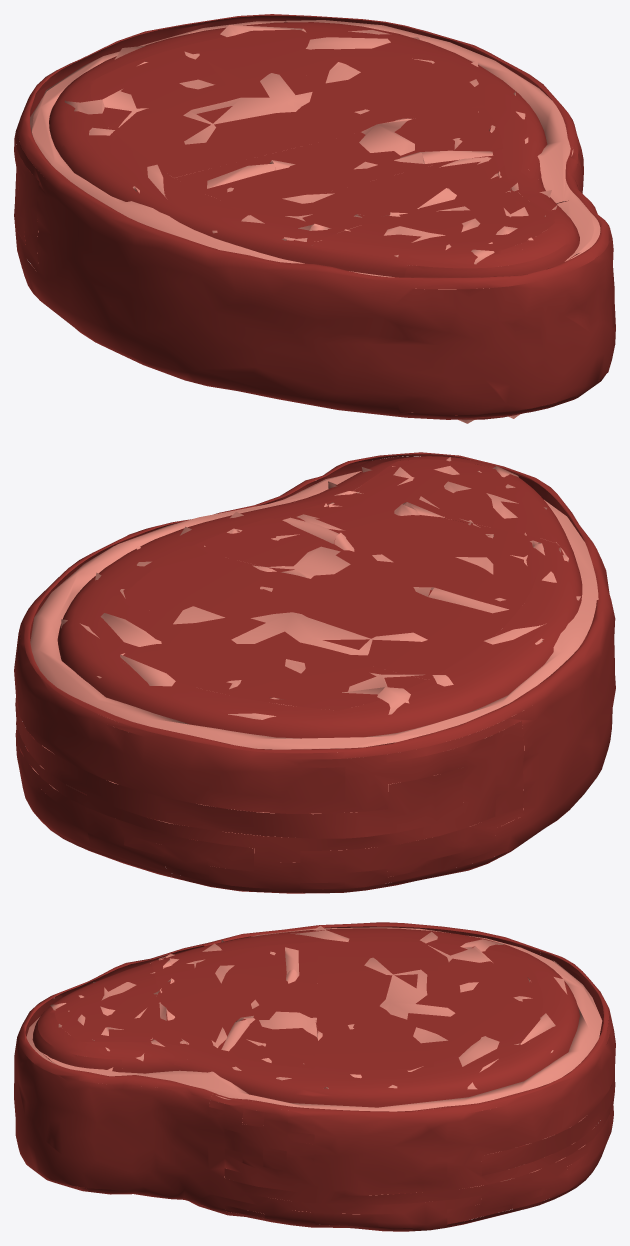
Rendered from Food (16).fbx.
The picture shows the model from 3 angles, top to bottom: view 1: azimuth 30°, elevation 25°; view 2: azimuth 150°, elevation 25°; view 3: azimuth 270°, elevation 25°; orthographic projection. The views are drawn at different scales.
Parts seen in each view (by area): view 1: Cube.012; view 2: Cube.012; view 3: Cube.012.
Boxes of the visible parts, x1=… form: Cube.012: x1=14, y1=14, x2=615, y2=423; Cube.012: x1=14, y1=452, x2=615, y2=893; Cube.012: x1=14, y1=922, x2=615, y2=1231.
Bounding box in the file's own units: 15.92 × 5.97 × 20.5.
